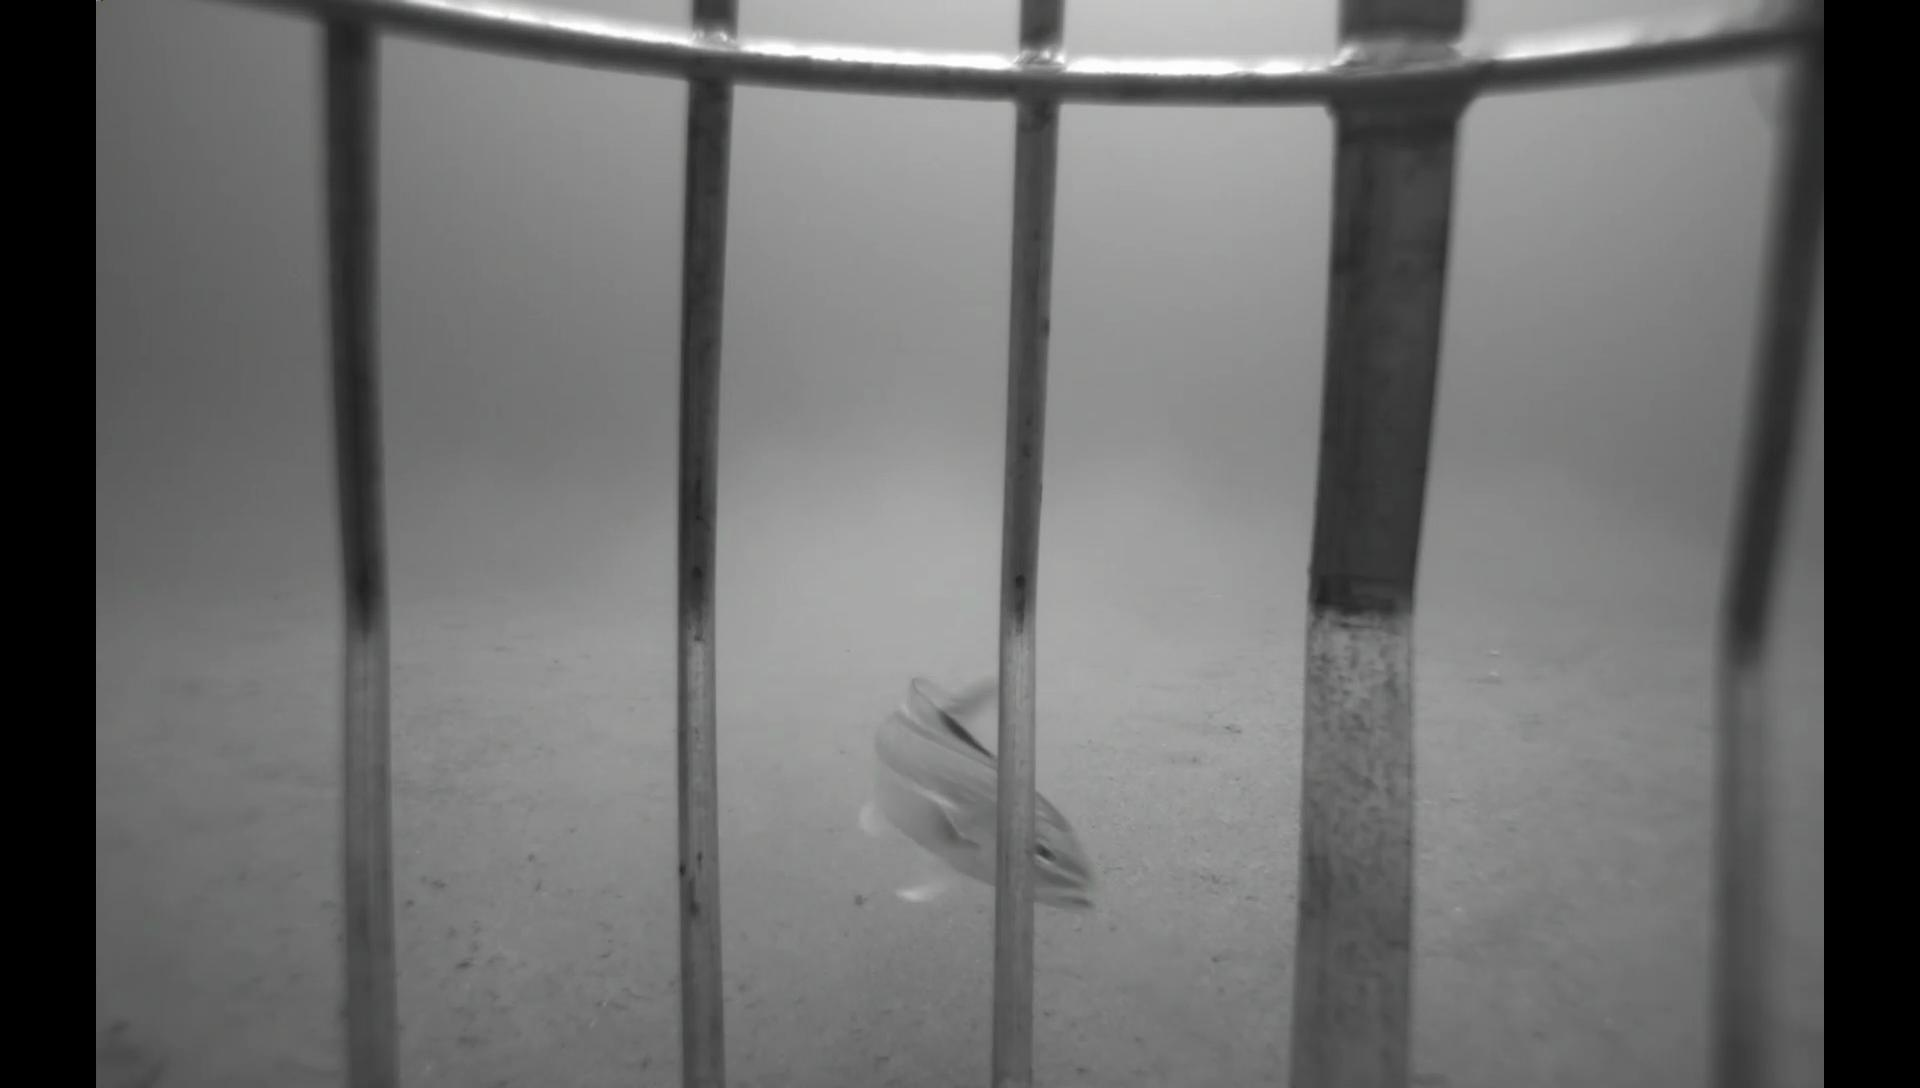CAULOLATILUSCYANOPS-170070101: (855, 659, 1109, 928)
SYACIUM-183011000: (1139, 699, 1246, 742)
